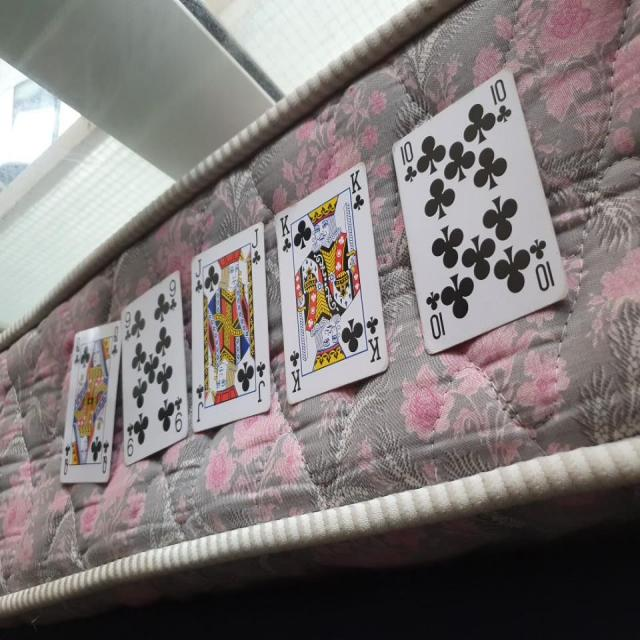10 Trefoils: (388, 63, 569, 352)
9 Trefoils: (117, 263, 189, 464)
J Trefoils: (188, 222, 272, 431)
K Trefoils: (273, 160, 393, 408)
Q Trefoils: (57, 319, 122, 480)
